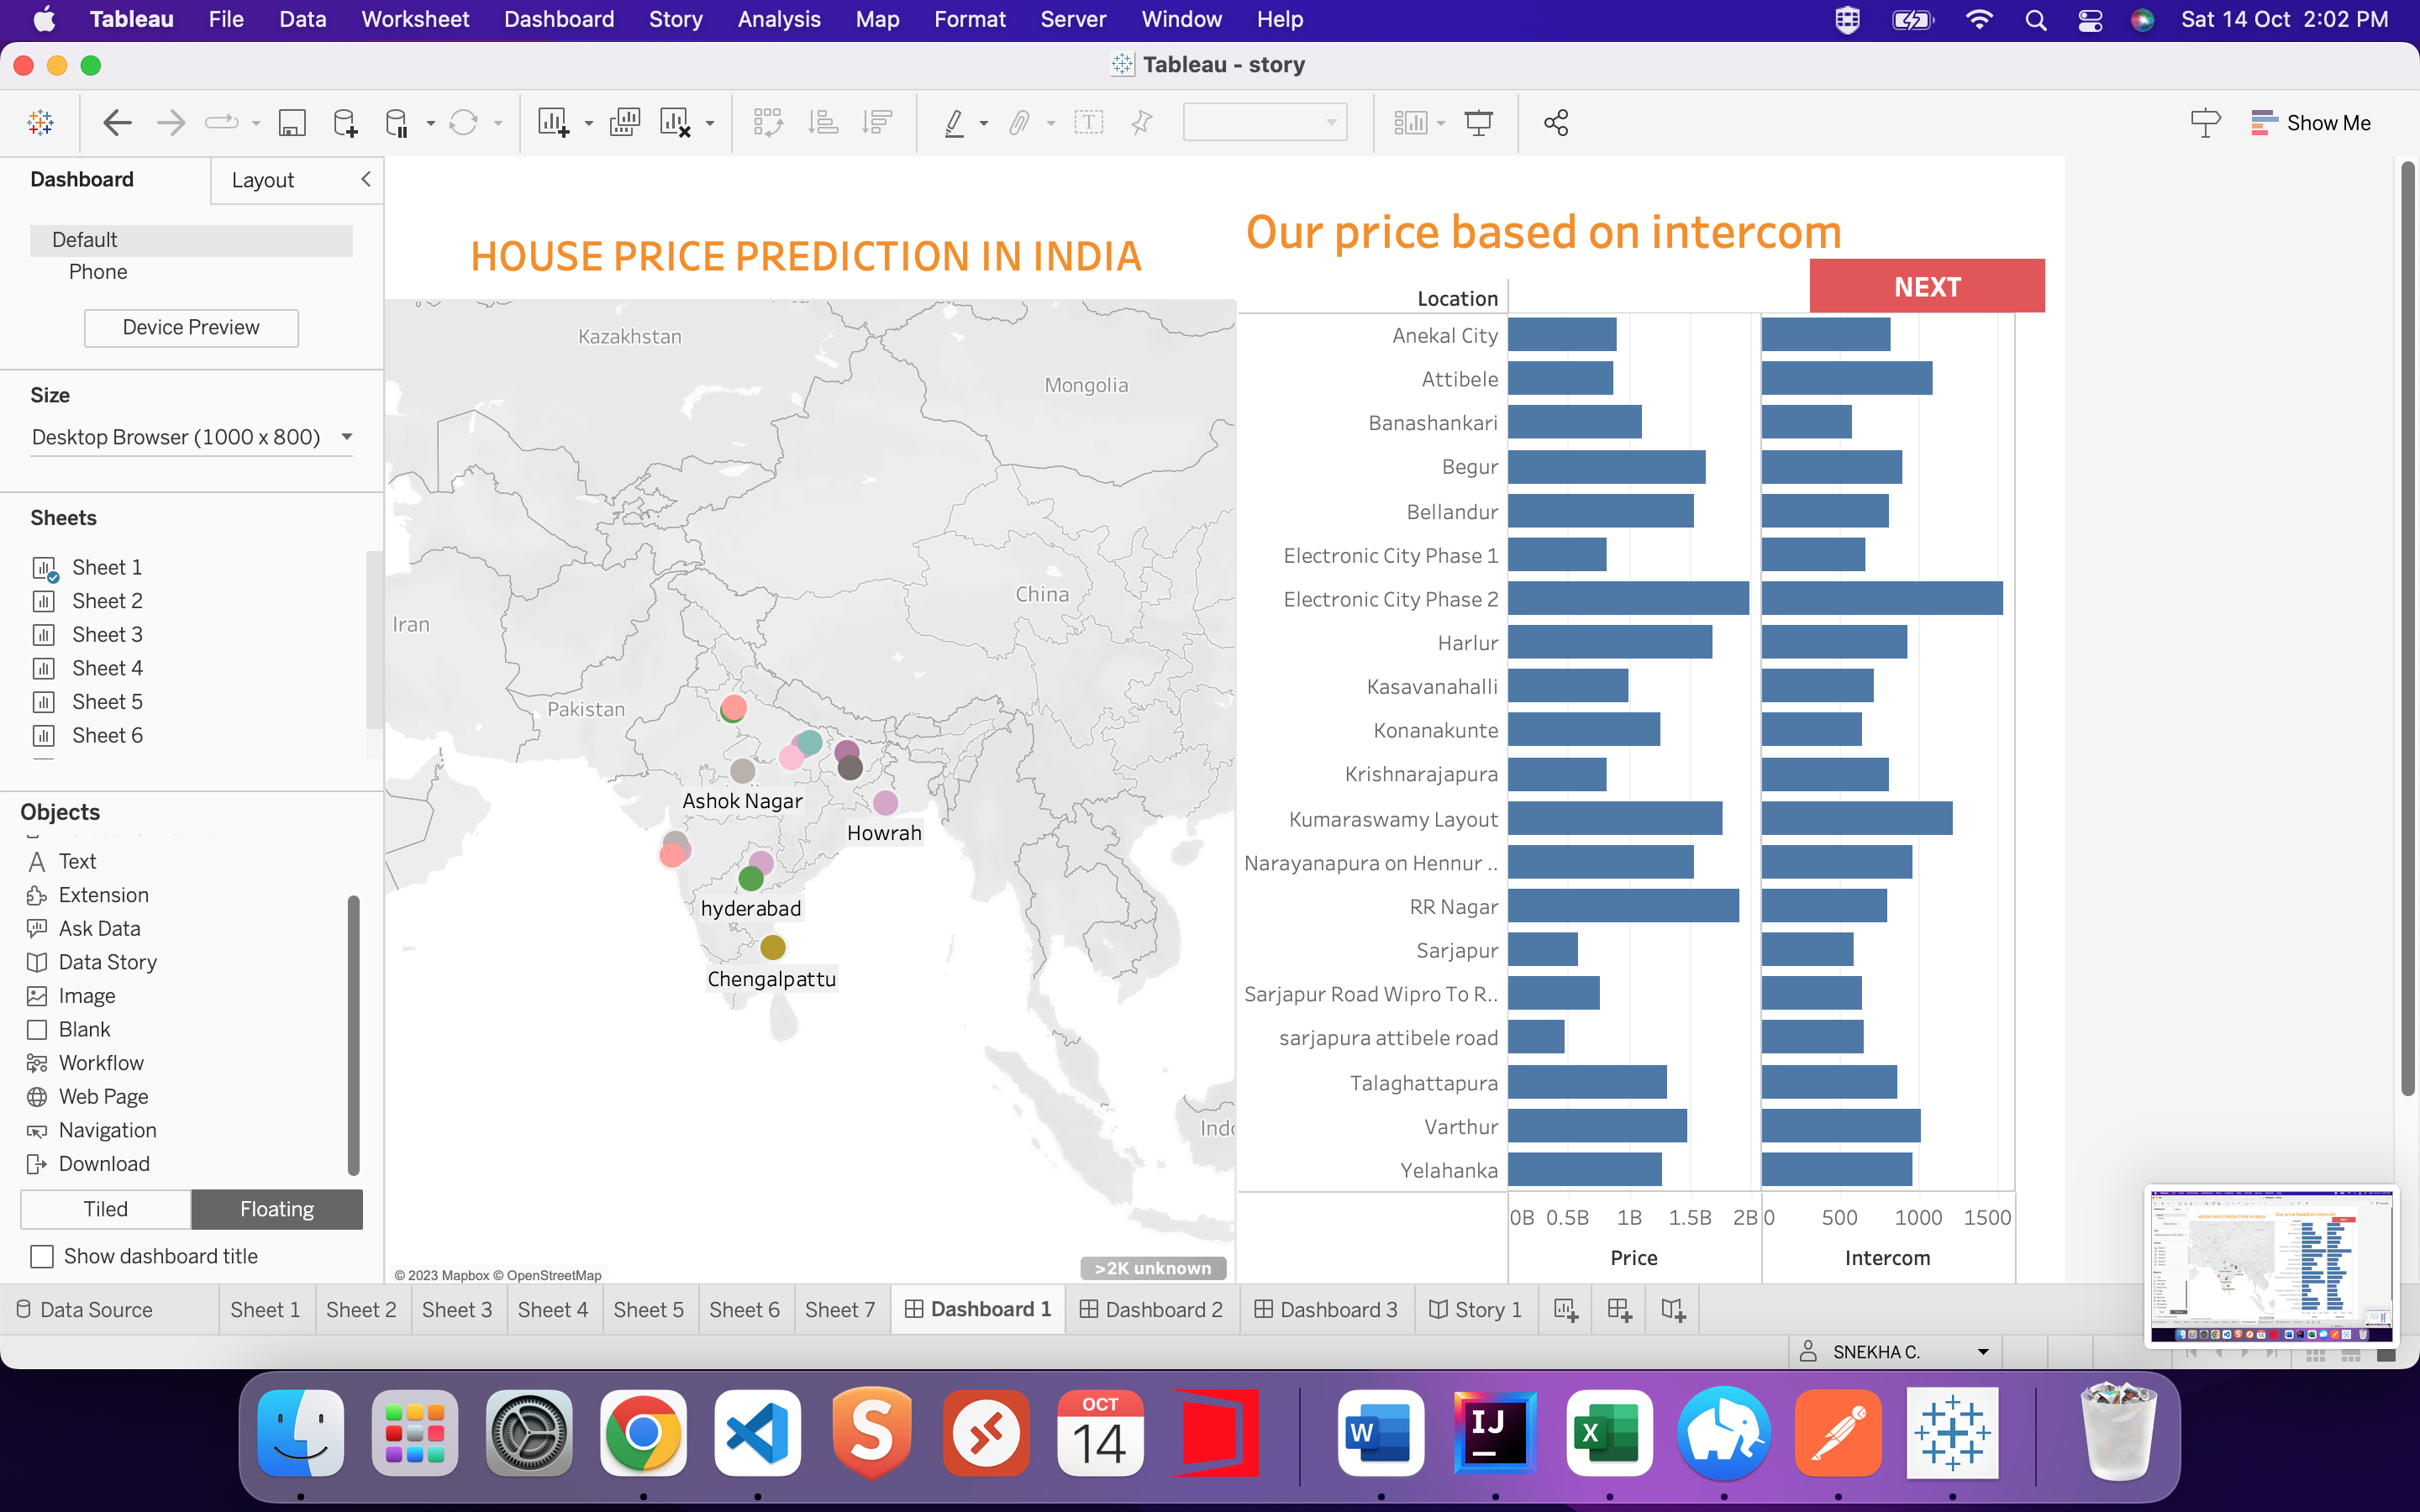

The dashboard page shown, as its layout file describes it:
{"tool":"tableau","page":{"name":"Dashboard 1","canvas":[1000,800],"ordinal":0},"visuals":[{"type":"worksheet","title":"Sheet 7","mark":"Automatic","rows":["Location"],"cols":["Price","Intercom"],"box":[508,21,463,651]},{"type":"worksheet","title":"Sheet 1","mark":"Automatic","box":[0,38,507,637]},{"type":"dashboard-object","box":[848,61,140,32]}]}

Visuals, with their boxes on the page's 1000x800 design canvas (x1, y1, x2, y2). These are canvas units, not pixel positions in the 2420x1512 screenshot, which may show the page scaled, cropped or inside an application window:
"Sheet 7" worksheet: bbox(508, 21, 971, 672)
"Sheet 1" worksheet: bbox(0, 38, 507, 675)
dashboard-object: bbox(848, 61, 988, 93)
